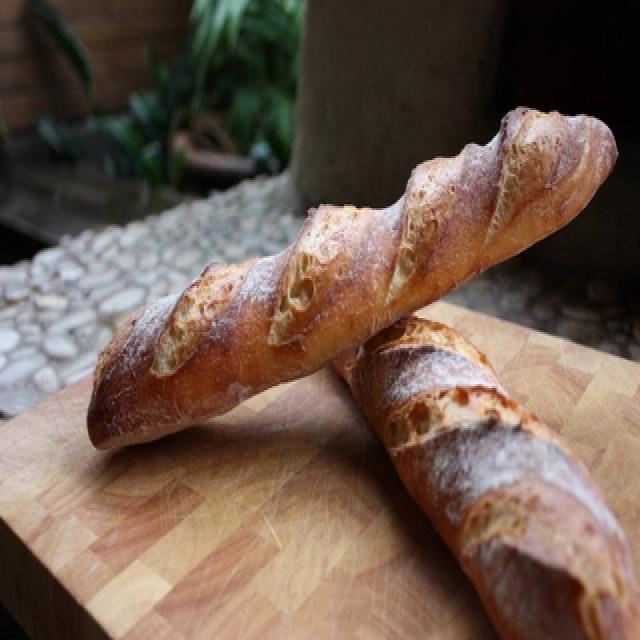Baguette: (87, 110, 616, 448), (340, 316, 639, 638)
